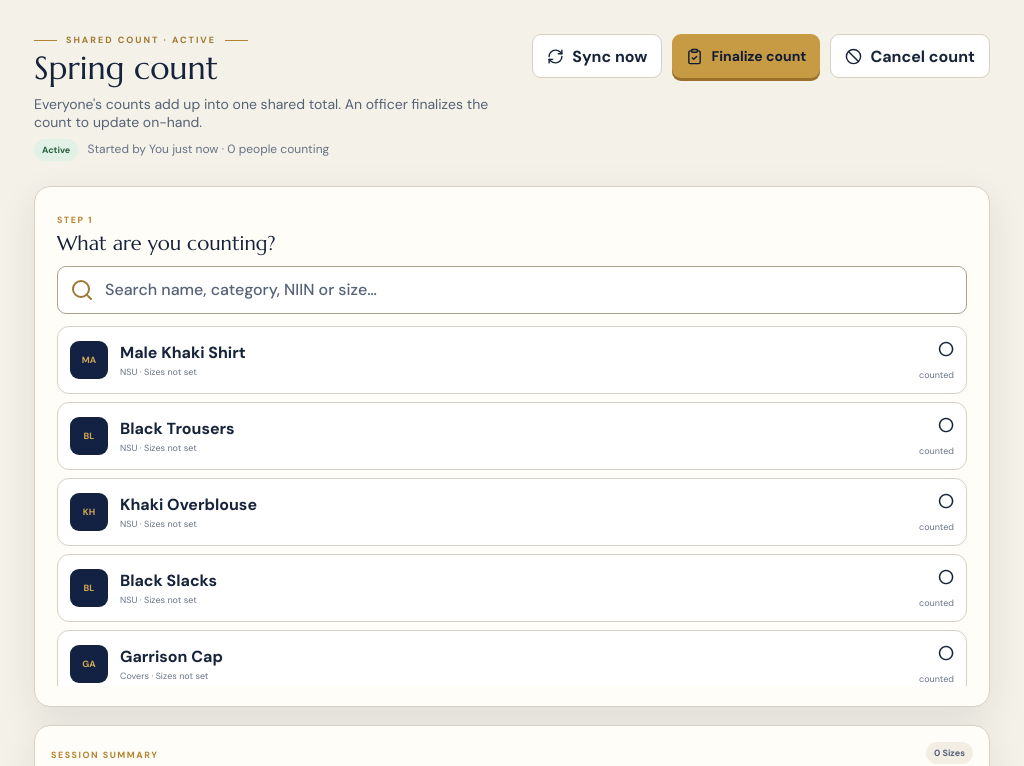
it: SharedCountView › cancels a count with a reason without touching stock
Click the button "Cancel count" at (910, 56), box [830,34,990,78]
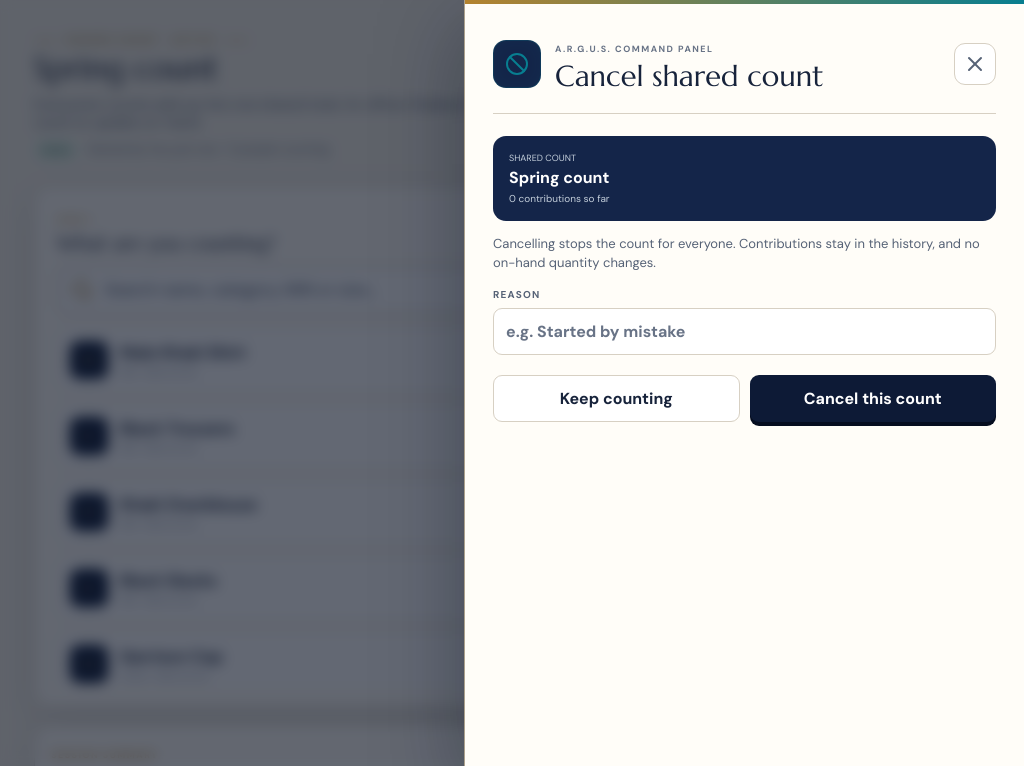
Click the button "Cancel this count" at (873, 398), box [750,375,996,422]
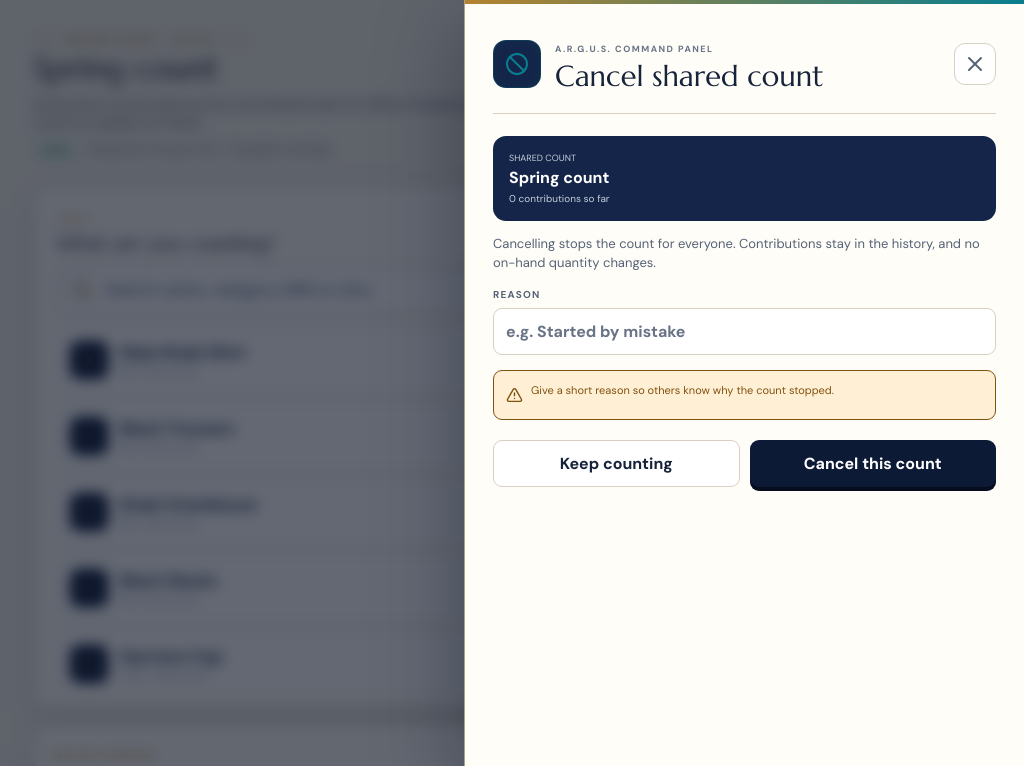
Result: the message shows "reason" at [531,383,834,397]
Type "Started by mistake" into the field labelled "Reason" at (744, 331), box [493,308,996,355]
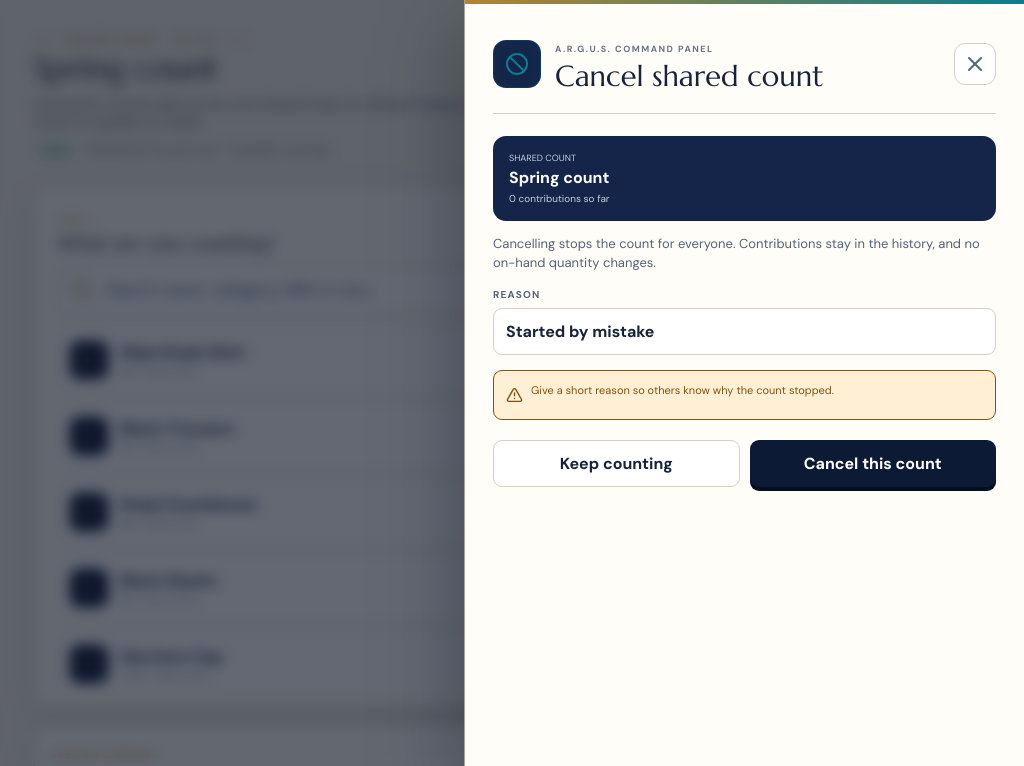
Click the button "Cancel this count" at (873, 463), box [750,440,996,487]
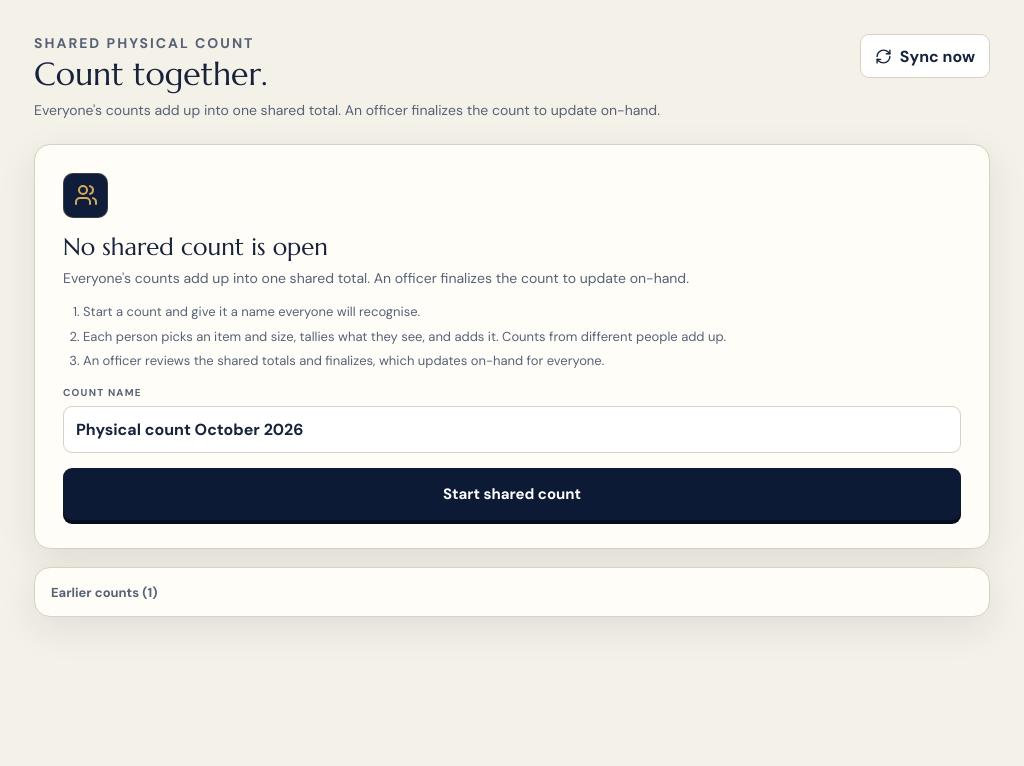
Result: the button "Start shared count" is shown at [63,468,961,520]
